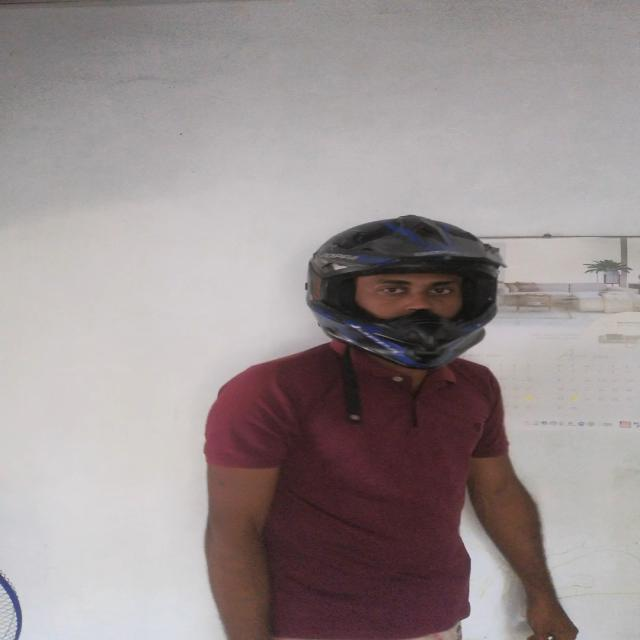Helmet_Wearer: (284, 205, 523, 392)
Person: (193, 206, 585, 640)
